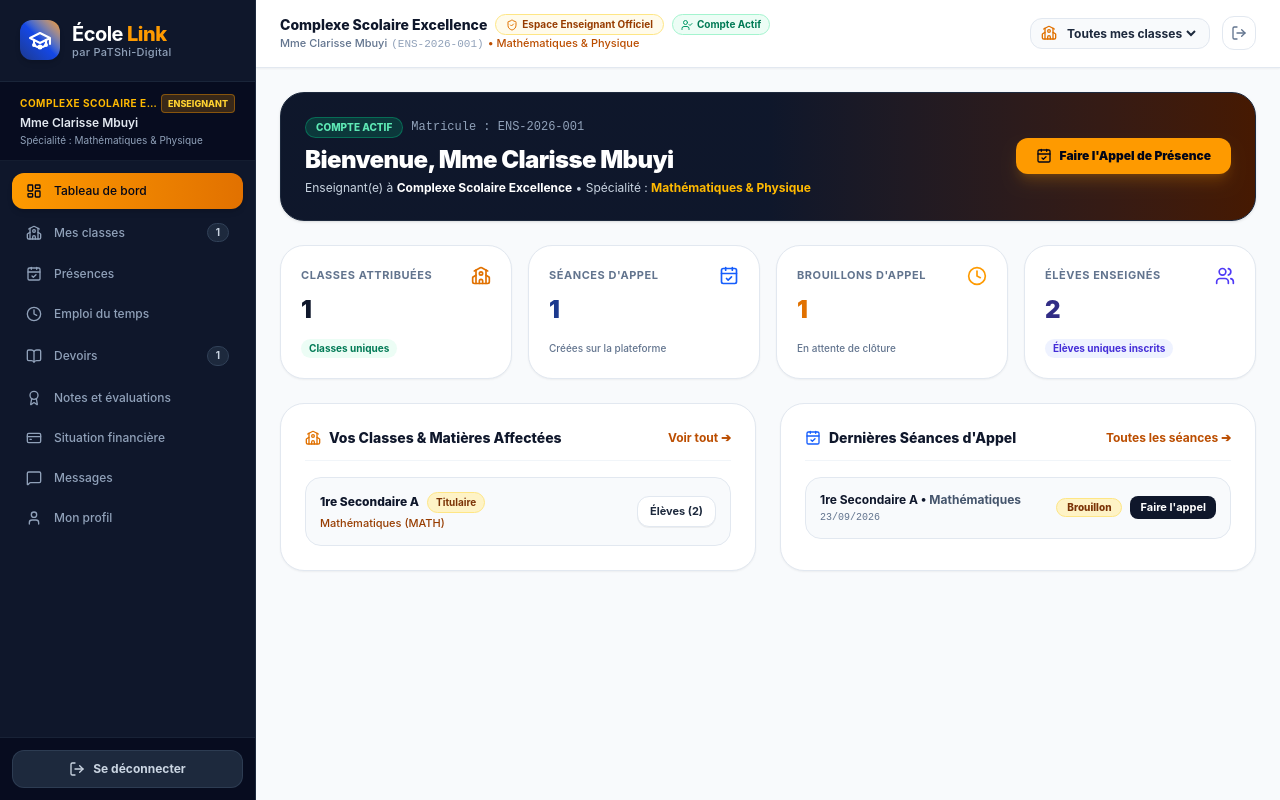
Scenario: RealTeacherPortal - Lot 2G Refonte Portail Enseignant Réel › 12. active le bouton rapide "Faire l’appel de présence" et ouvre la modale
This screenshot has width=1280, height=800.
Click the button "Faire l'Appel de Présence": click(1123, 156) [1016,138,1231,174]
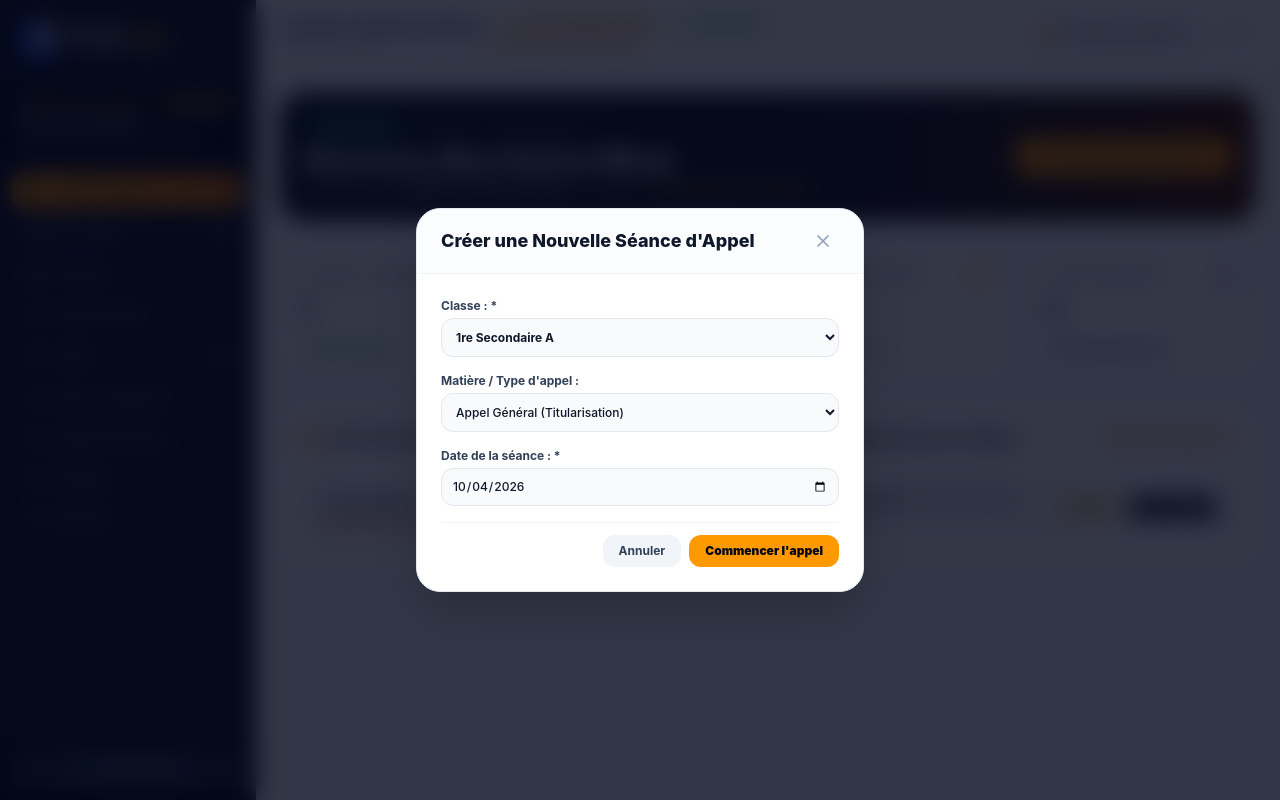
Expected: the heading "Créer une Nouvelle Séance d'Appel" is shown, [441,227,755,255]
